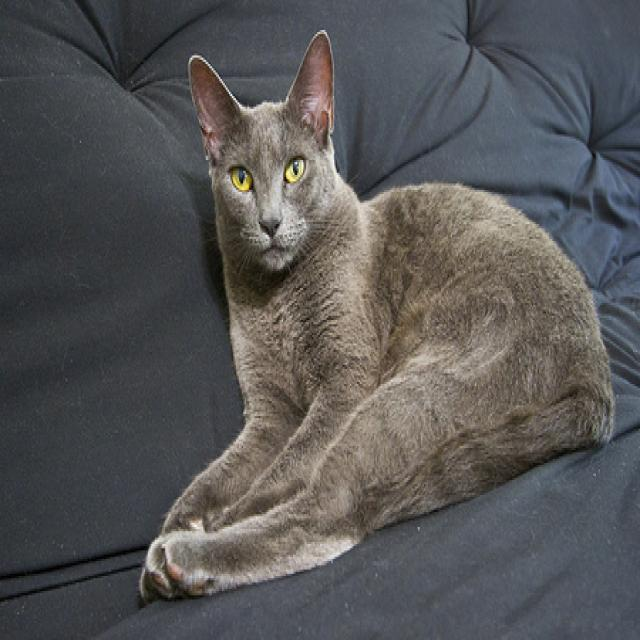Russian Blue: (137, 24, 618, 614)
